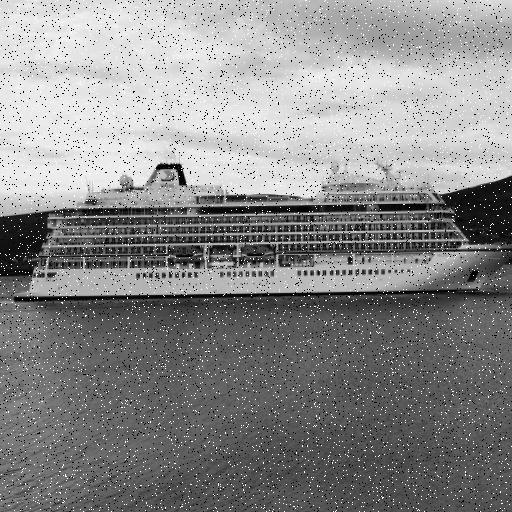cruises: (11, 153, 512, 307)
